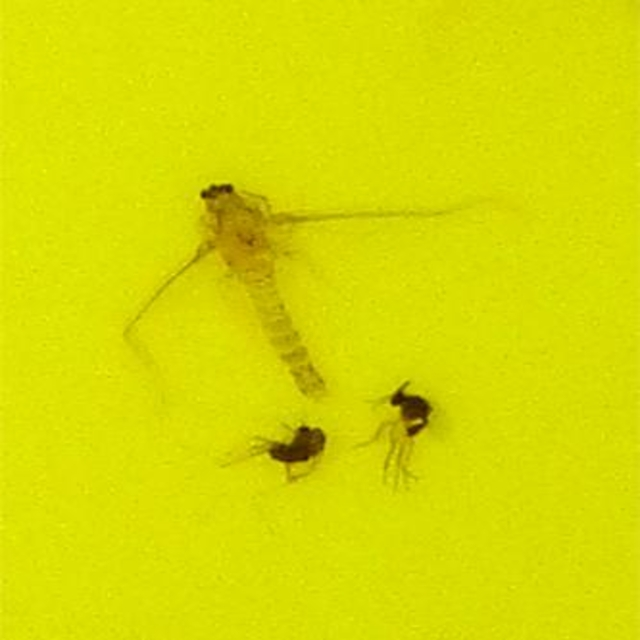Brachycera: (384, 379, 448, 451)
Ephemeroptera: (192, 163, 354, 412)
Nematocera: (259, 423, 334, 477)
